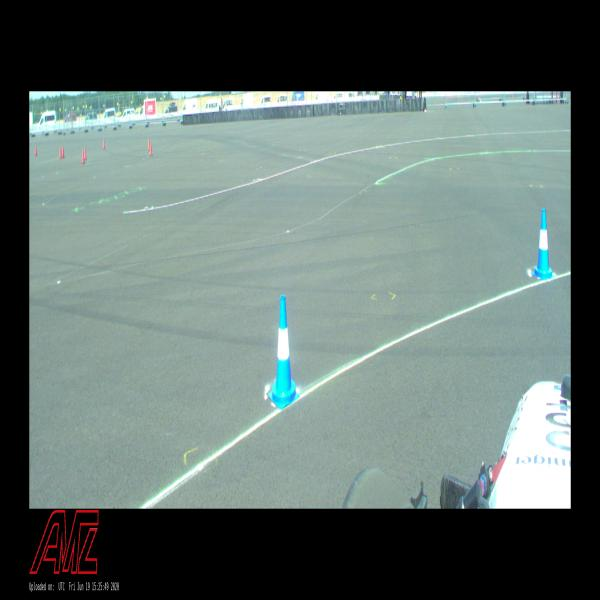blue_cone: (268, 294, 300, 410), (531, 209, 556, 279)
